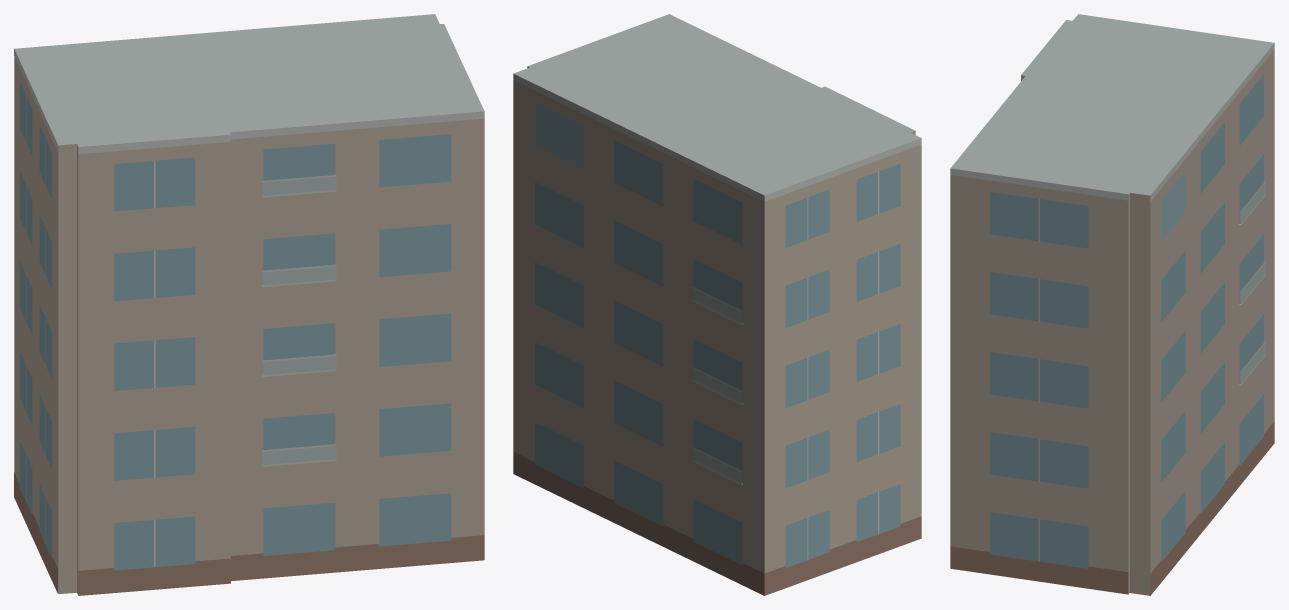
The model's file is survey-upis-32713079.glb.
The picture shows the model from 3 angles, left to right: view 1: azimuth 30°, elevation 25°; view 2: azimuth 150°, elevation 25°; view 3: azimuth 270°, elevation 25°; orthographic projection. The views are drawn at different scales.
Visible parts, largest first — view 1: survey-upis-32713079.tmp; view 2: survey-upis-32713079.tmp; view 3: survey-upis-32713079.tmp.
Part boxes in pixels (x1,y1,x2,y2): survey-upis-32713079.tmp: (14, 14, 484, 595); survey-upis-32713079.tmp: (513, 14, 921, 595); survey-upis-32713079.tmp: (950, 14, 1274, 595).
Size of the model in its own units: 14.85 by 15.25 by 11.21.
